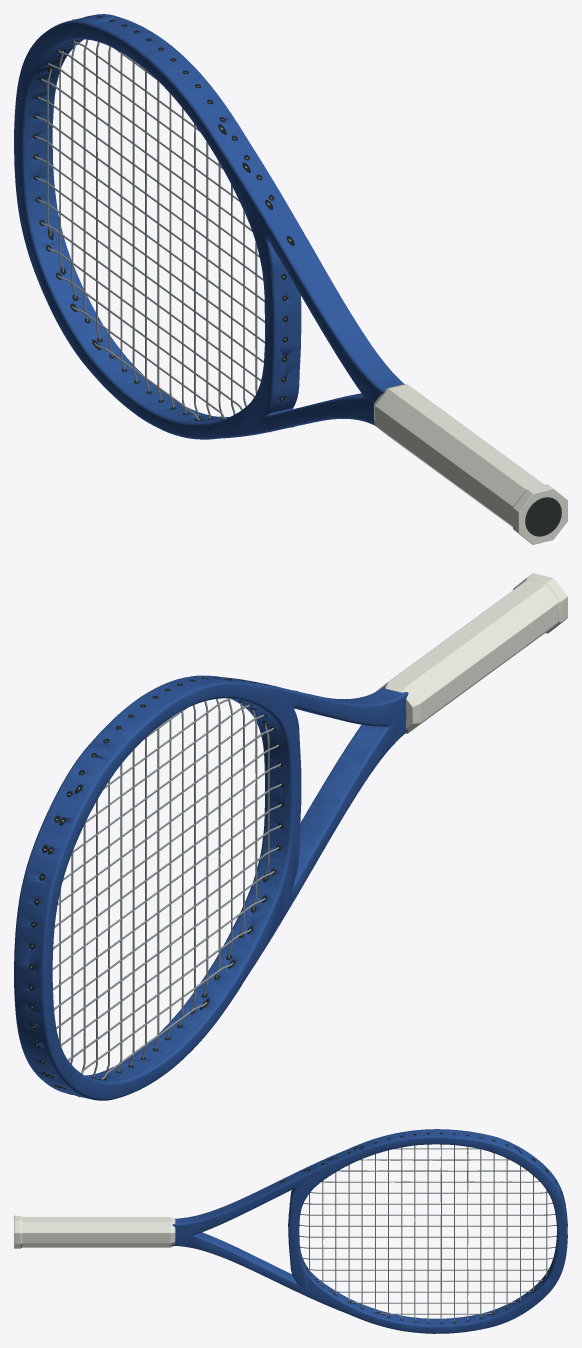
Rendered from racket-arm-solved.glb.
3 views of the same model, one above another, from view 1: azimuth 30°, elevation 25°; view 2: azimuth 150°, elevation 25°; view 3: azimuth 270°, elevation 25° (orthographic). The views are drawn at different scales.
Parts seen in each view (by area): view 1: Flanges, Butt_badge; view 2: Flanges; view 3: Flanges.
Boxes of the visible parts, <box> form: Flanges: <box>14,14,567,544</box>; Butt_badge: <box>525,497,561,536</box>; Flanges: <box>14,573,567,1100</box>; Flanges: <box>14,1129,567,1333</box>.
Bounding box in the file's own units: 0.0379 × 0.2703 × 0.6859.
2 materials, 2 textured.
